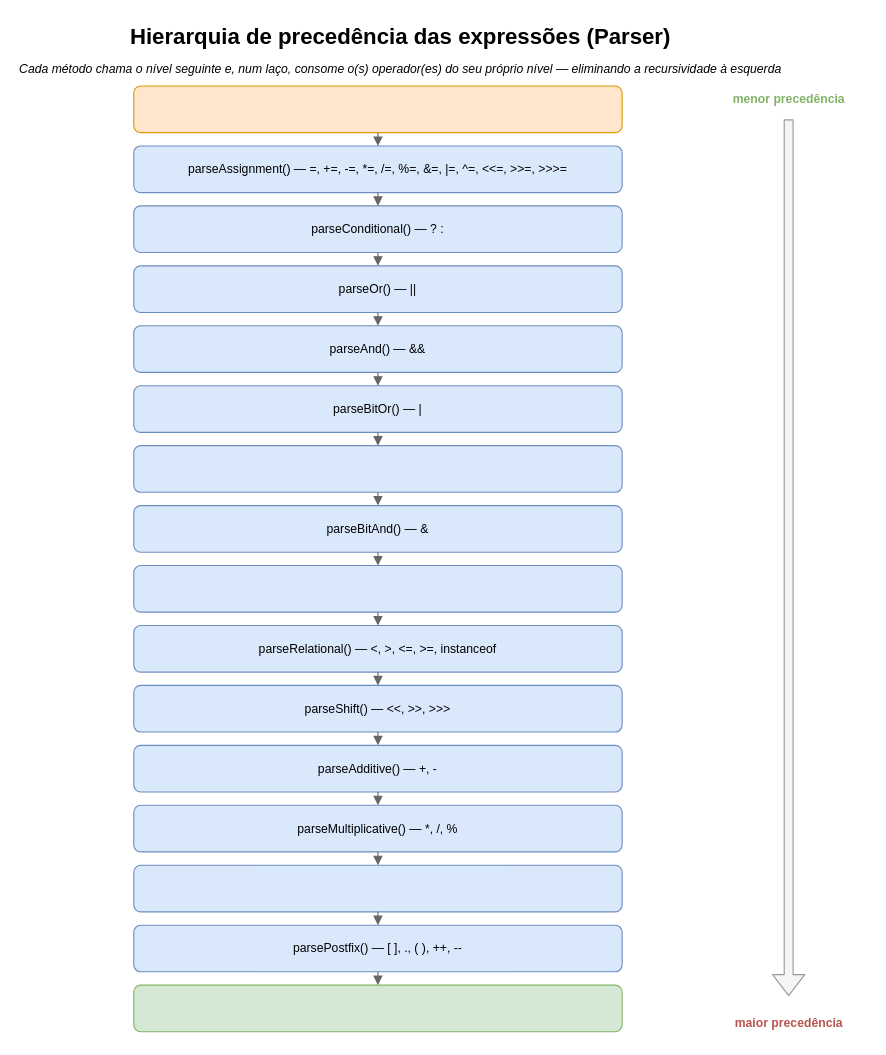
This 886x1055 diagram has some shape labels left out. The shapes that lost their labels are listed below. From the top down, each one's centre as x and y in pixels, then its label:
the point at 377,109: parseExpression() (ponto de entrada)
the point at 377,468: parseXor() — ^
the point at 377,588: parseEquality() — ==, !=
the point at 377,888: parseUnary() — !, ~, +, -, ++, --, (Tipo) cast
the point at 377,1008: parsePrimary() — literais, identificador, this, super, ( expr ), new
